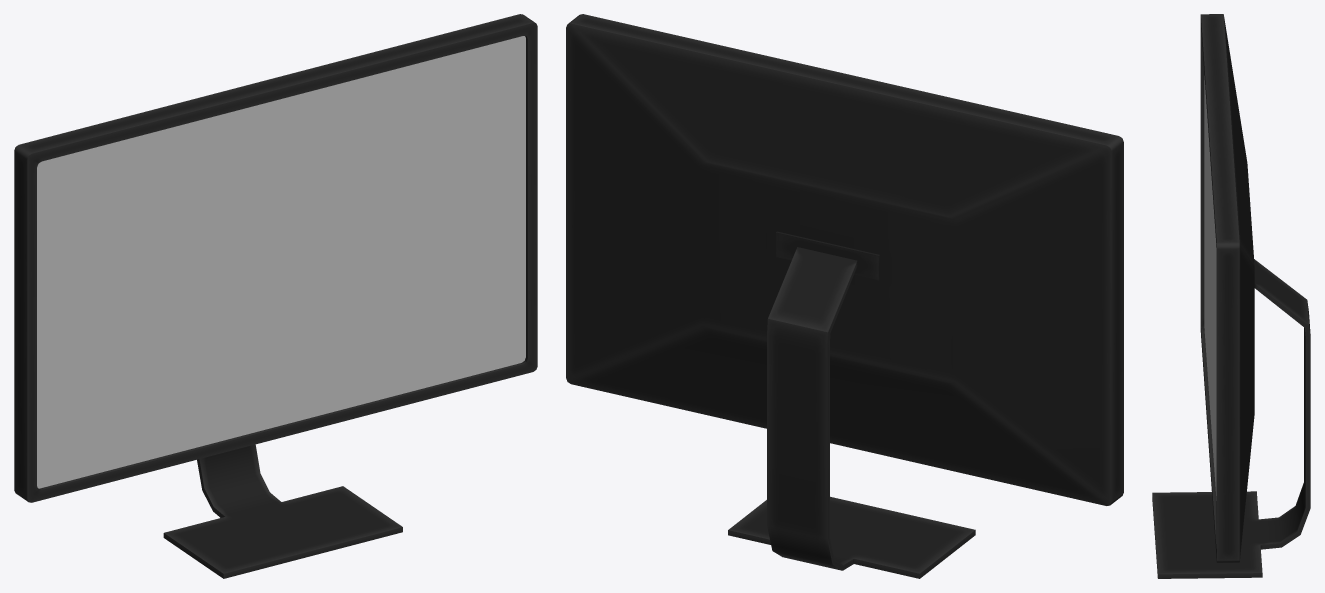
The model's file is MonitorScreenA.fbx.
3 views of the same model, side by side, from view 1: azimuth 30°, elevation 25°; view 2: azimuth 150°, elevation 25°; view 3: azimuth 270°, elevation 25° (orthographic). The views are drawn at different scales.
Parts seen in each view (by area): view 1: MonitorScreenA; view 2: MonitorScreenA; view 3: MonitorScreenA.
Part boxes in pixels (x1=…): MonitorScreenA: x1=14, y1=14, x2=537, y2=578; MonitorScreenA: x1=566, y1=14, x2=1123, y2=578; MonitorScreenA: x1=1152, y1=14, x2=1310, y2=578.
Bounding box in the file's own units: 74.24 × 60.86 × 21.4.
